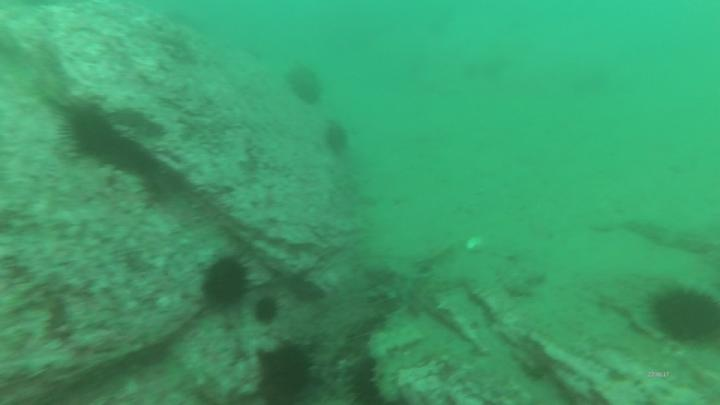echinus: (643, 278, 720, 350), (58, 97, 122, 165), (251, 342, 319, 405), (199, 250, 253, 309), (287, 63, 327, 109), (345, 360, 382, 405), (325, 119, 353, 158), (254, 292, 281, 328)
